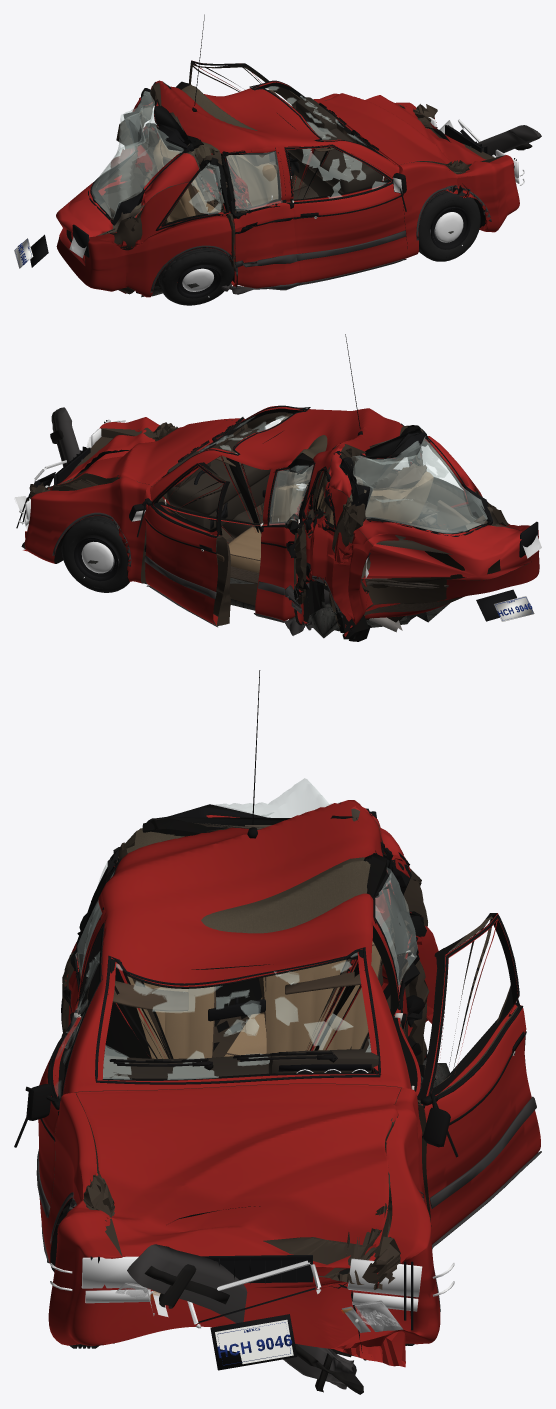
Rendered from hatchback85_rear_corner_d3_lod1.glb.
The picture shows the model from 3 angles, top to bottom: view 1: azimuth 30°, elevation 25°; view 2: azimuth 150°, elevation 25°; view 3: azimuth 270°, elevation 25°; orthographic projection. The views are drawn at different scales.
Parts seen in each view (by area): view 1: Body, Door_FR, Interior, Glass_Hatch, Hood, Hatch, Door_RR, Wheel_FR_mesh, Wheel_RR_mesh, Glass_RR, Glass, Trim_FR (+6 smaller); view 2: Body, Interior, Hatch, Glass_Hatch, Door_FL, Hood, Wheel_FL_mesh, Door_RL, Ends, Glass_RL, Trim_FL, Underbody (+4 smaller); view 3: Body, Hood, Interior, Door_FL, Ends, Glass, Bumper_F, Trim_FL, Door_FR, Glass_RL, Trim, Glass_Hatch (+8 smaller).
Part boxes in pixels (bbox=[...]): Body: bbox=[56, 80, 519, 297]; Door_FR: bbox=[284, 144, 407, 282]; Interior: bbox=[142, 89, 382, 223]; Glass_Hatch: bbox=[88, 82, 190, 225]; Hood: bbox=[315, 93, 486, 168]; Hatch: bbox=[56, 81, 200, 265]; Door_RR: bbox=[225, 147, 299, 288]; Wheel_FR_mesh: bbox=[418, 191, 480, 261]; Wheel_RR_mesh: bbox=[158, 248, 234, 305]; Glass_RR: bbox=[224, 151, 286, 218]; Glass: bbox=[145, 80, 388, 226]; Trim_FR: bbox=[285, 144, 406, 285]; Body: bbox=[23, 405, 539, 641]; Interior: bbox=[166, 414, 470, 588]; Hatch: bbox=[328, 428, 530, 580]; Glass_Hatch: bbox=[334, 430, 492, 536]; Door_FL: bbox=[145, 462, 231, 625]; Hood: bbox=[46, 420, 239, 490]; Wheel_FL_mesh: bbox=[61, 516, 129, 592]; Door_RL: bbox=[255, 462, 315, 625]; Ends: bbox=[15, 419, 541, 621]; Glass_RL: bbox=[267, 462, 313, 534]; Trim_FL: bbox=[129, 463, 225, 627]; Underbody: bbox=[88, 522, 449, 638]; Body: bbox=[46, 800, 440, 1367]; Hood: bbox=[75, 1084, 401, 1276]; Interior: bbox=[103, 941, 381, 1078]; Door_FL: bbox=[417, 913, 540, 1244]; Ends: bbox=[50, 1255, 454, 1370]; Glass: bbox=[87, 847, 426, 1084]; Bumper_F: bbox=[127, 1244, 363, 1394]; Trim_FL: bbox=[411, 914, 541, 1248]; Door_FR: bbox=[38, 921, 105, 1254]; Glass_RL: bbox=[373, 867, 419, 1009]; Trim: bbox=[50, 670, 440, 1311]; Glass_Hatch: bbox=[156, 778, 382, 895].
Bounding box in the file's own units: 4.42 × 2.25 × 2.18.
32 materials, 5 textured.
